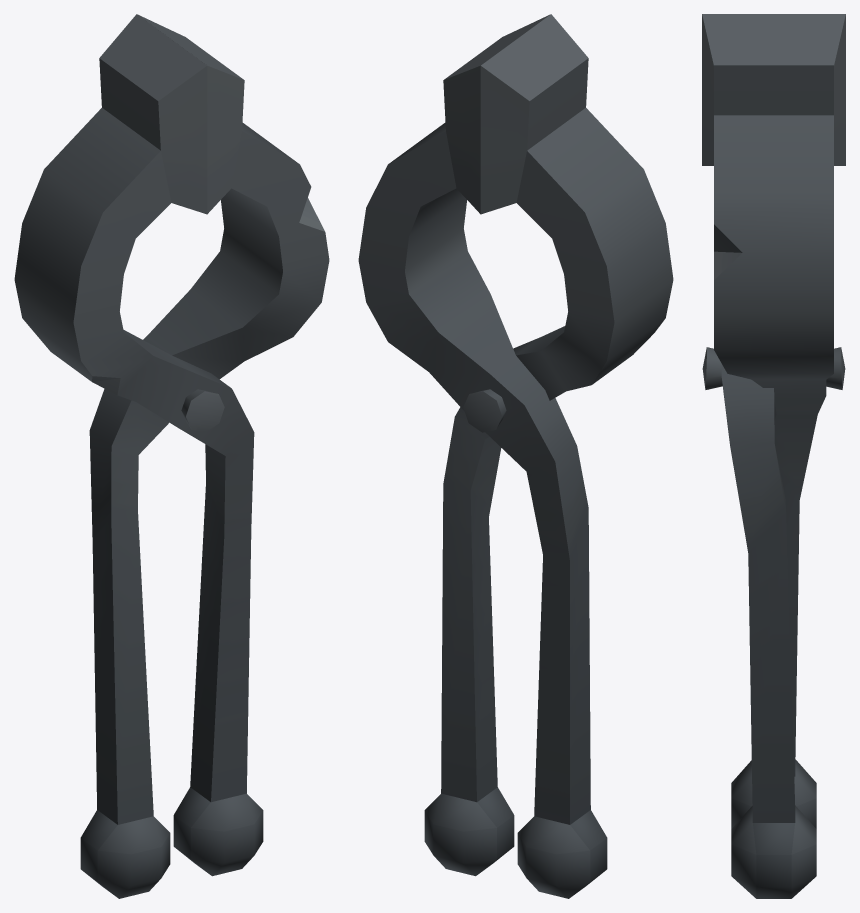
Rendered from tang.glb.
3 renders of one model, left to right at view 1: azimuth 30°, elevation 25°; view 2: azimuth 150°, elevation 25°; view 3: azimuth 270°, elevation 25°, orthographic.
Parts seen in each view (by area): view 1: tongs, tongs_part; view 2: tongs, tongs_part; view 3: tongs_part, tongs.
Boxes of the visible parts, x1,y1,x2,y2 form: tongs: (14,14,263,876); tongs_part: (80,14,329,898); tongs: (424,14,673,876); tongs_part: (358,14,607,898); tongs_part: (702,14,845,828); tongs: (702,347,845,898).
Bounding box in the file's own units: 0.4113 × 1.29 × 0.1963.
Materials: 1 (1 with a texture image).
